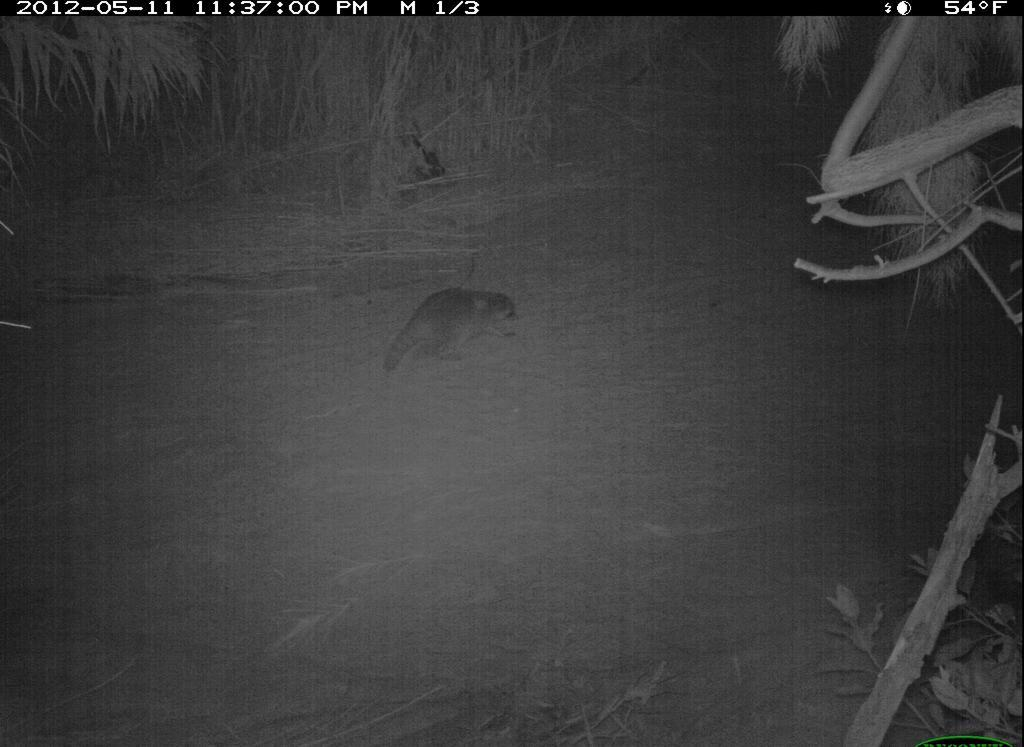raccoon: (374, 283, 537, 381)
